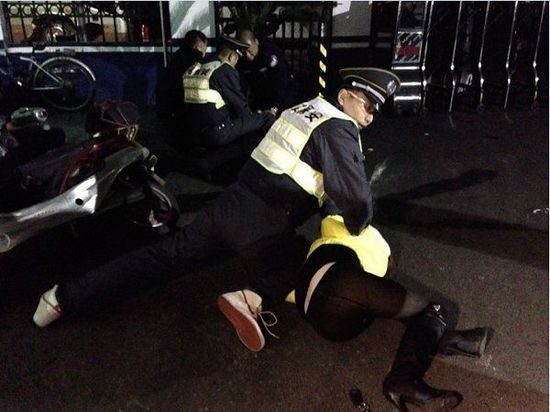falling: (277, 195, 504, 399)
